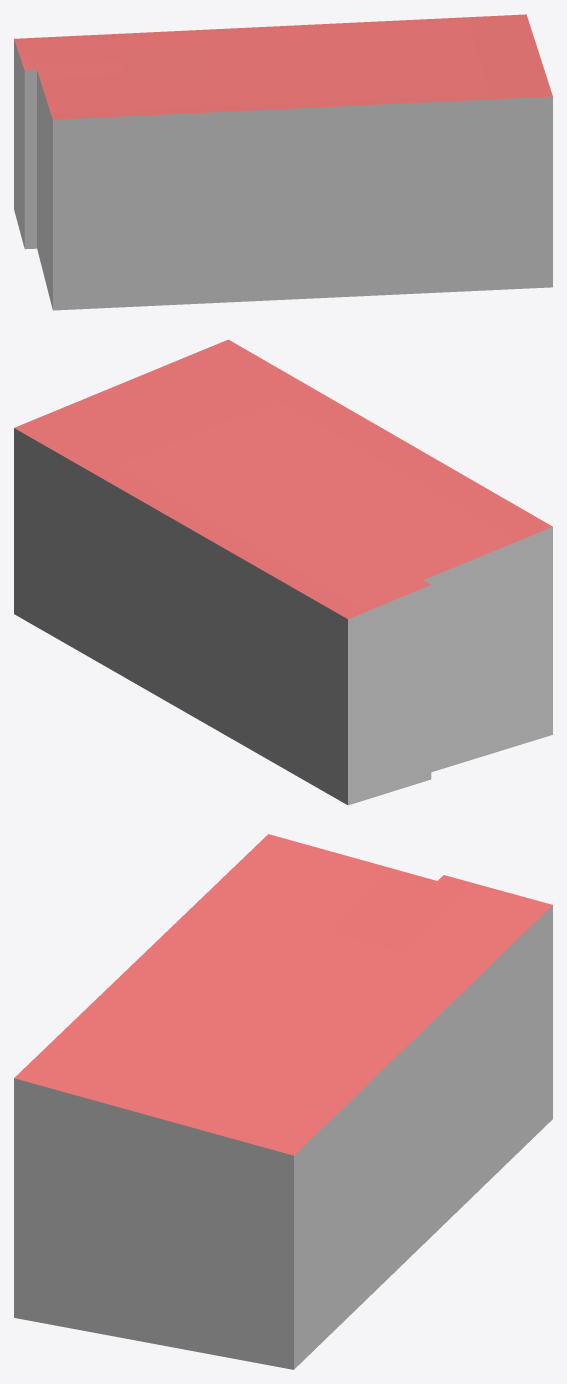
Rendered from DEBY_LOD2_4906973.gltf.
3 renders of one model, top to bottom at view 1: azimuth 30°, elevation 25°; view 2: azimuth 150°, elevation 25°; view 3: azimuth 270°, elevation 25°, orthographic. The views are drawn at different scales.
Visible parts, largest first — view 1: Z_UP; view 2: Z_UP; view 3: Z_UP.
Part boxes in pixels (x1,y1,x2,y2): Z_UP: (14,14,552,310); Z_UP: (14,339,552,805); Z_UP: (14,834,552,1369).
Size of the model in its own units: 11.83 by 4.46 by 9.09.
